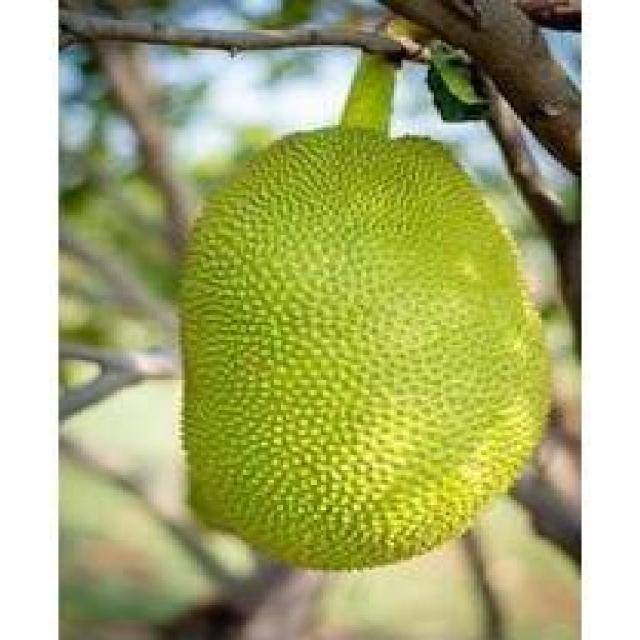Fruit: (160, 275, 578, 597), (157, 108, 575, 400)
